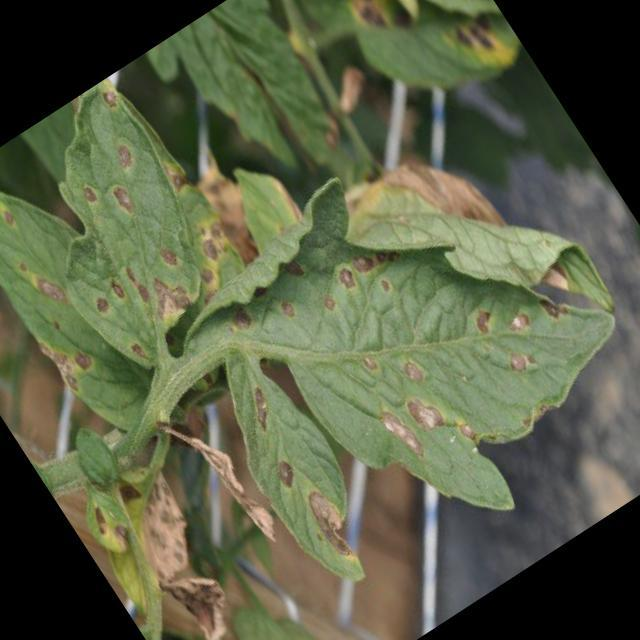Tomato Septoria spot leaf: (129, 74, 640, 625), (0, 73, 269, 389), (0, 144, 187, 448), (278, 0, 533, 152)
